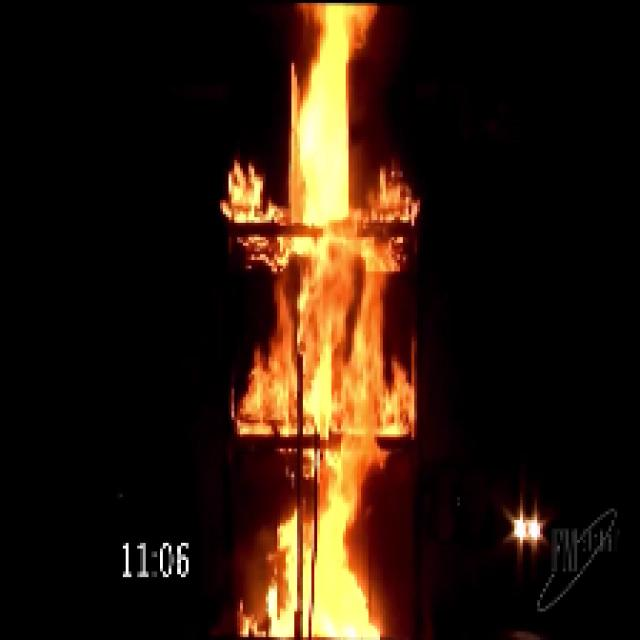fire: (248, 7, 398, 638)
